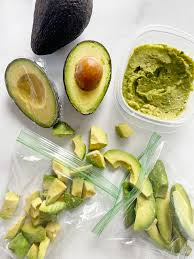aguacate: (4, 50, 65, 141), (19, 1, 99, 53)
